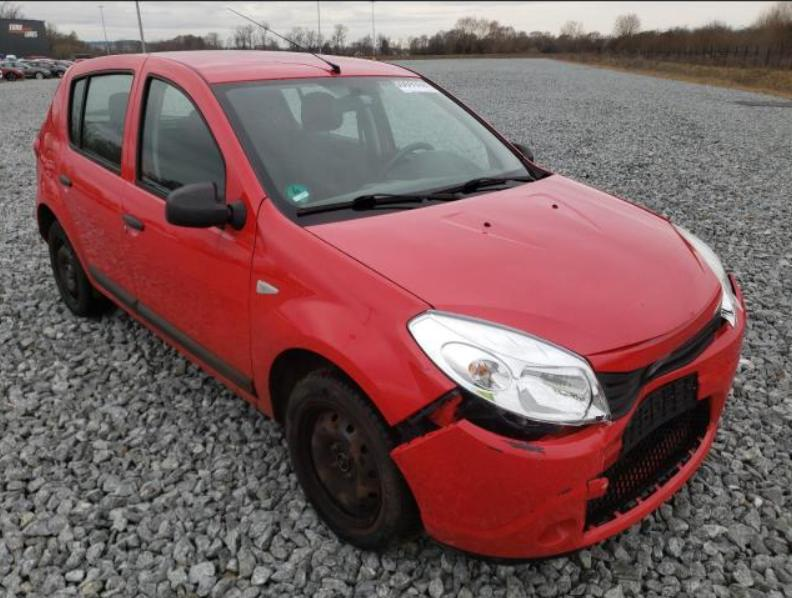Back-door: (57, 56, 147, 311)
Back-wheel: (48, 223, 104, 313)
Back-window: (67, 70, 133, 169)
Fender: (249, 198, 456, 426)
Front-bumper: (393, 275, 746, 559)
Front-door: (122, 57, 264, 395)
Front-wheel: (284, 368, 415, 549)
Front-window: (142, 79, 225, 199)
Grille: (595, 295, 730, 418)
Headlight: (409, 310, 612, 427), (671, 224, 737, 324)
Hood: (301, 174, 718, 371)
License-plate: (618, 373, 697, 462)
Mirror: (165, 182, 243, 228), (512, 144, 534, 164)
Quarter-panel: (34, 131, 90, 276)
Rocker-panel: (88, 276, 254, 406)
Roof: (122, 48, 418, 83)
Windshield: (208, 75, 532, 227)
